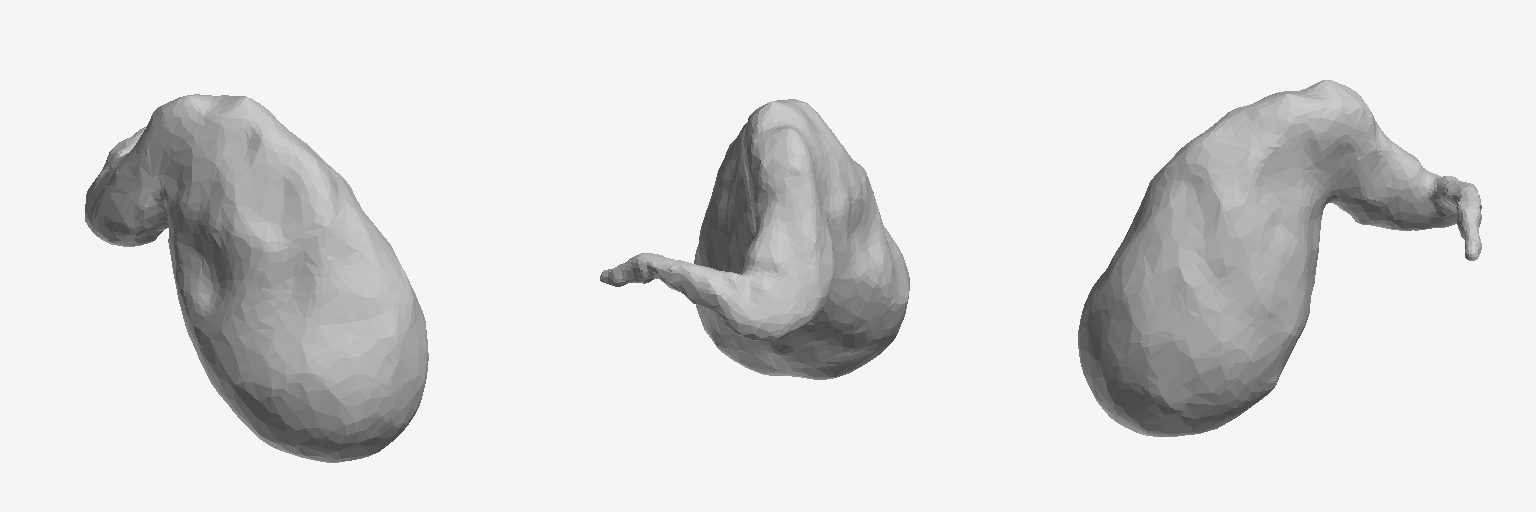
The picture shows the model from 3 angles: view 1: azimuth 30°, elevation 25°; view 2: azimuth 150°, elevation 25°; view 3: azimuth 270°, elevation 25°; orthographic projection.
Parts seen in each view (by area): view 1: Polygonal_Model_11_Triangles_0; view 2: Polygonal_Model_11_Triangles_0; view 3: Polygonal_Model_11_Triangles_0.
Boxes of the visible parts, x1,y1,x2,y2 form: Polygonal_Model_11_Triangles_0: [85, 94, 428, 462]; Polygonal_Model_11_Triangles_0: [600, 99, 909, 379]; Polygonal_Model_11_Triangles_0: [1078, 80, 1481, 436].
Bounding box in the file's own units: 1.52 × 2.16 × 2.49.